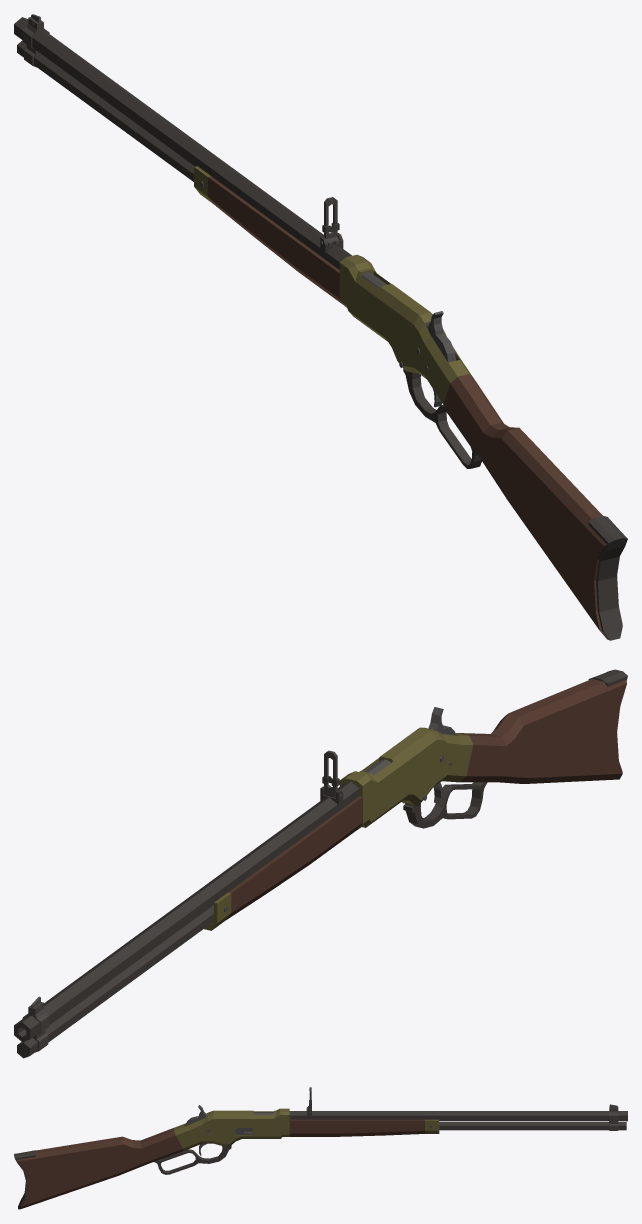
3 views of the same model, one above another, from view 1: azimuth 30°, elevation 25°; view 2: azimuth 150°, elevation 25°; view 3: azimuth 270°, elevation 25° (orthographic). The views are drawn at different scales.
Parts seen in each view (by area): view 1: winchester-1866; view 2: winchester-1866; view 3: winchester-1866.
Part boxes in pixels (x1,y1,x2,y2): winchester-1866: [14, 14, 627, 640]; winchester-1866: [14, 669, 627, 1058]; winchester-1866: [14, 1087, 627, 1209].
Bounding box in the file's own units: 0.0249 × 0.2222 × 1.03.
